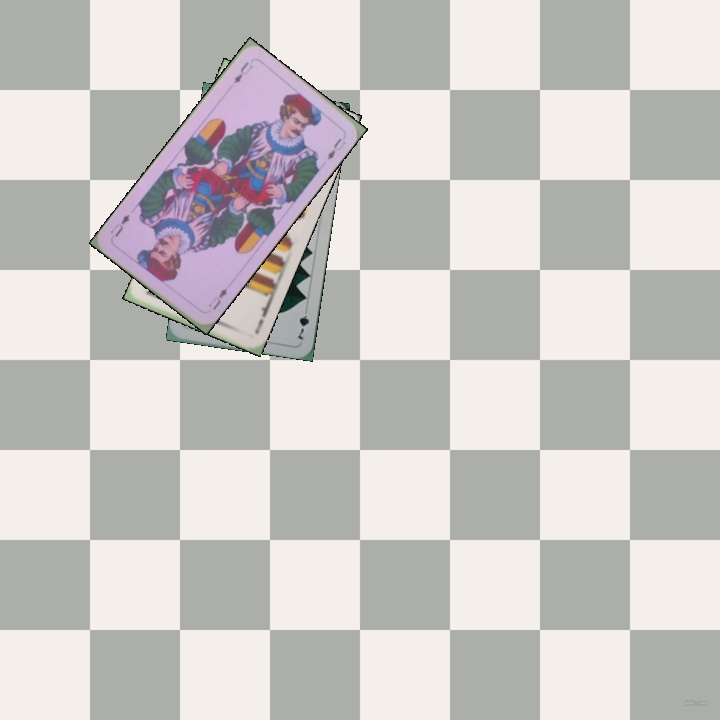E7: (250, 298, 273, 337)
EU: (204, 283, 230, 313), (229, 58, 255, 86)
G7: (294, 303, 312, 342)
